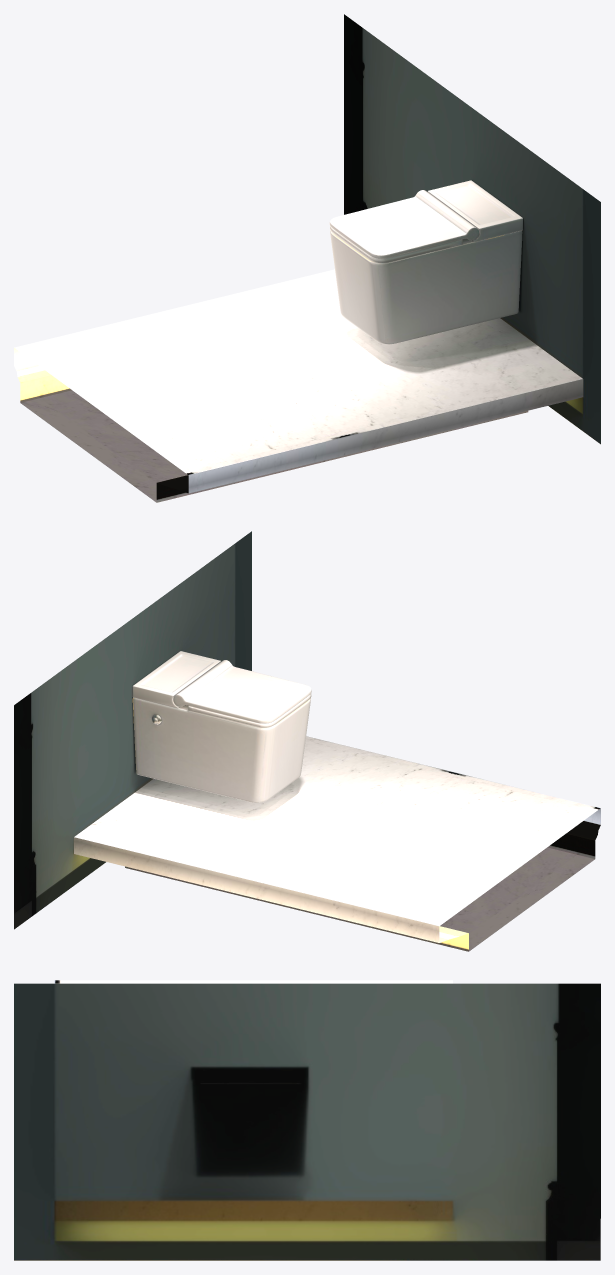
The model's file is EWC_WM_TANKLESS_S2.glb.
3 views of the same model, one above another, from view 1: azimuth 30°, elevation 25°; view 2: azimuth 150°, elevation 25°; view 3: azimuth 270°, elevation 25° (orthographic). The views are drawn at different scales.
Visible parts, largest first — view 1: EWC_WM_TANKLESS_S2; view 2: EWC_WM_TANKLESS_S2; view 3: EWC_WM_TANKLESS_S2.
Boxes of the visible parts, x1,y1,x2,y2 form: EWC_WM_TANKLESS_S2: (14, 14, 600, 502); EWC_WM_TANKLESS_S2: (14, 531, 600, 951); EWC_WM_TANKLESS_S2: (14, 980, 600, 1260).
Bounding box in the file's own units: 1.66 × 0.9437 × 1.81.
Materials: 1 (1 with a texture image).
